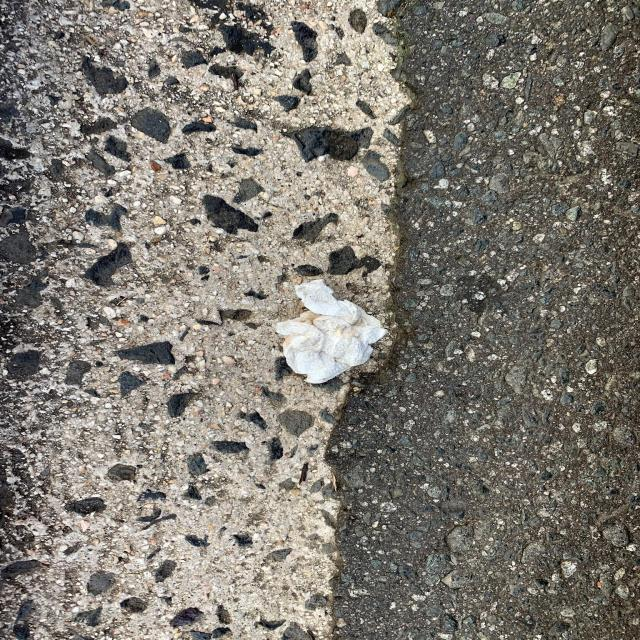litter: (273, 280, 389, 383)
